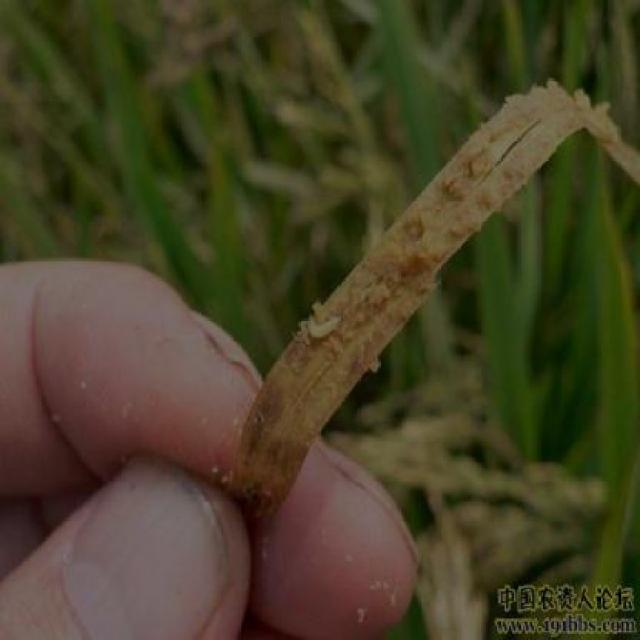whorl-maggot: (300, 303, 346, 348)
